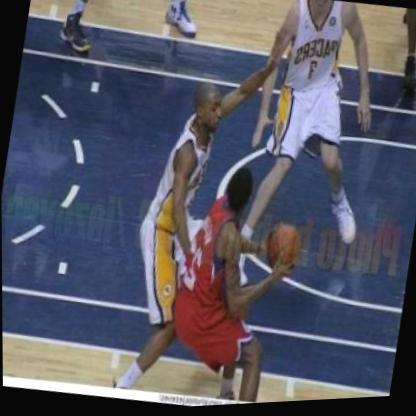basketball: (259, 214, 307, 280)
